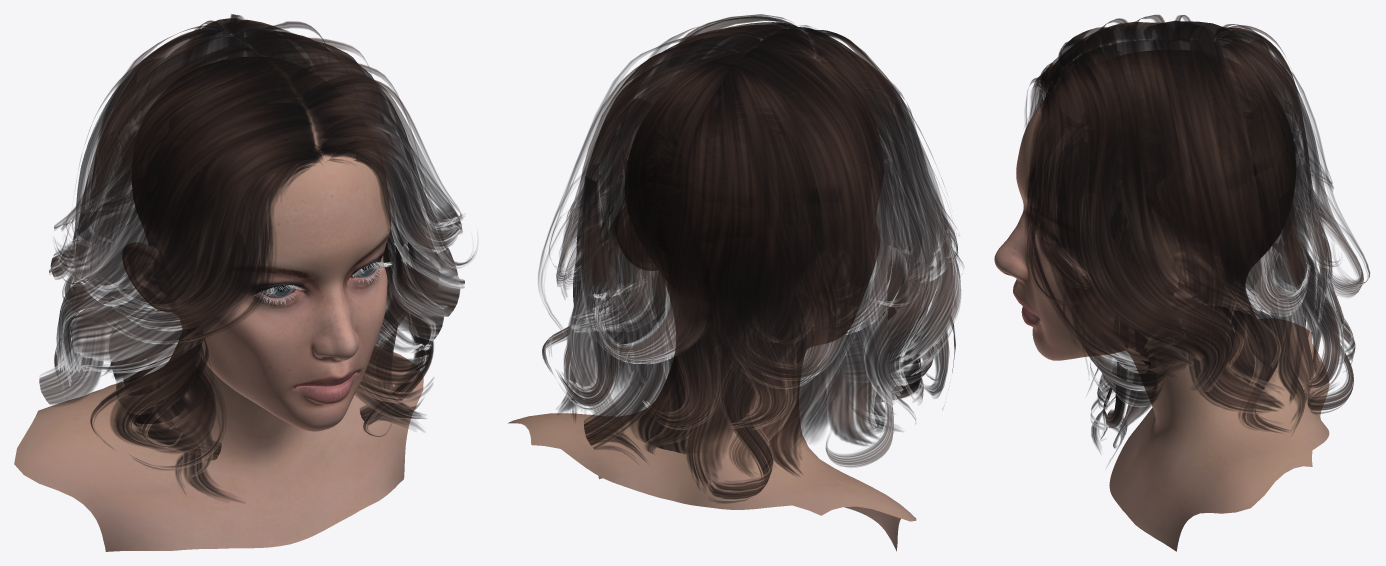
The model's file is angelica-v2.glb.
3 renders of one model, left to right at view 1: azimuth 30°, elevation 25°; view 2: azimuth 150°, elevation 25°; view 3: azimuth 270°, elevation 25°, orthographic. The views are drawn at different scales.
Parts seen in each view (by area): view 1: Hair, Head, Eye, Eyelashes; view 2: Hair, Head; view 3: Hair, Head.
Part boxes in pixels (left/top/right/bottom): Hair: left=39, top=14, right=475, bottom=502; Head: left=14, top=57, right=423, bottom=551; Eye: left=261, top=262, right=377, bottom=298; Eyelashes: left=254, top=261, right=391, bottom=304; Hair: left=538, top=14, right=963, bottom=503; Head: left=508, top=50, right=916, bottom=551; Hair: left=1024, top=14, right=1369, bottom=464; Head: left=994, top=50, right=1329, bottom=551.
Size of what is drawn, in the model's own units: 171 by 193 by 146.
5 materials, 4 textured.
